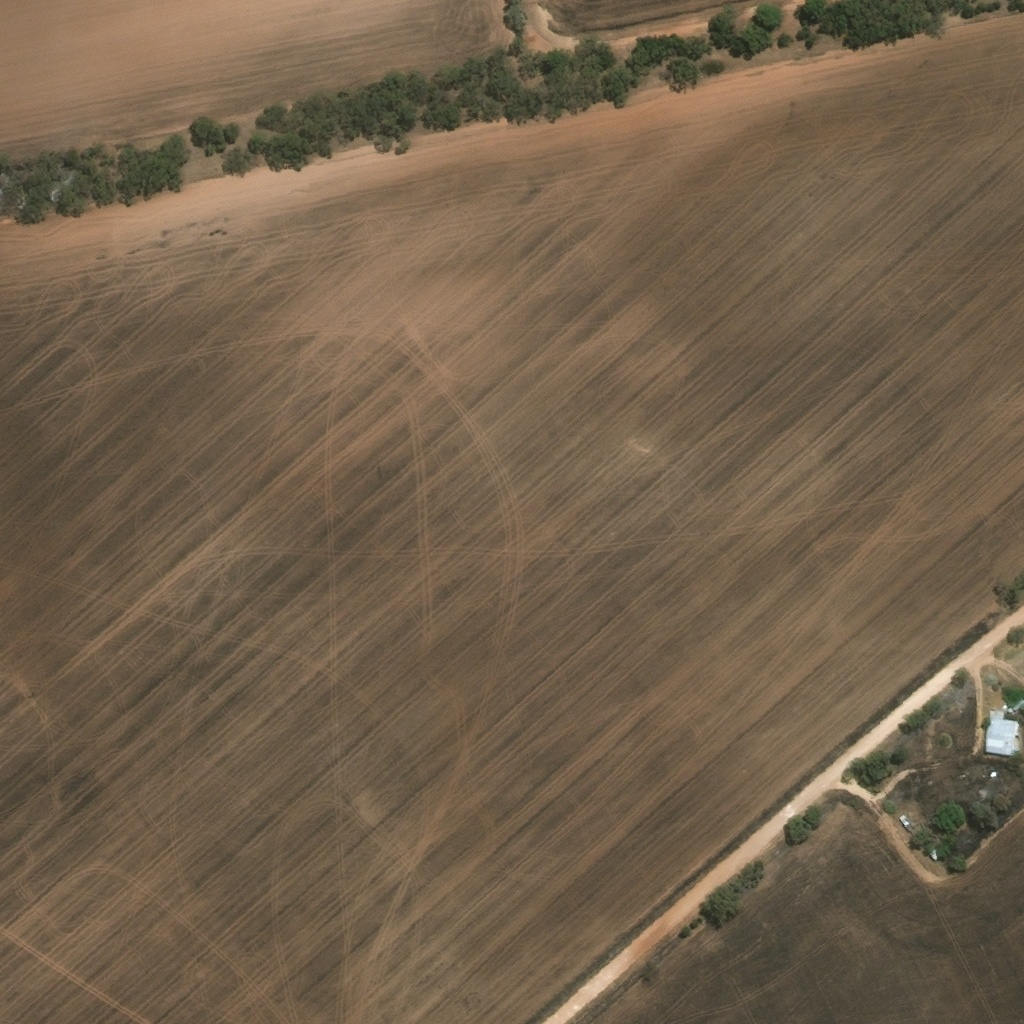0 no-damage: (986, 703, 1019, 757), (898, 815, 918, 835), (927, 844, 946, 862), (1011, 697, 1023, 713), (1009, 708, 1014, 713)
3 destroyed: (983, 766, 997, 780)
